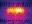Hotspot: (6, 7, 24, 15)
